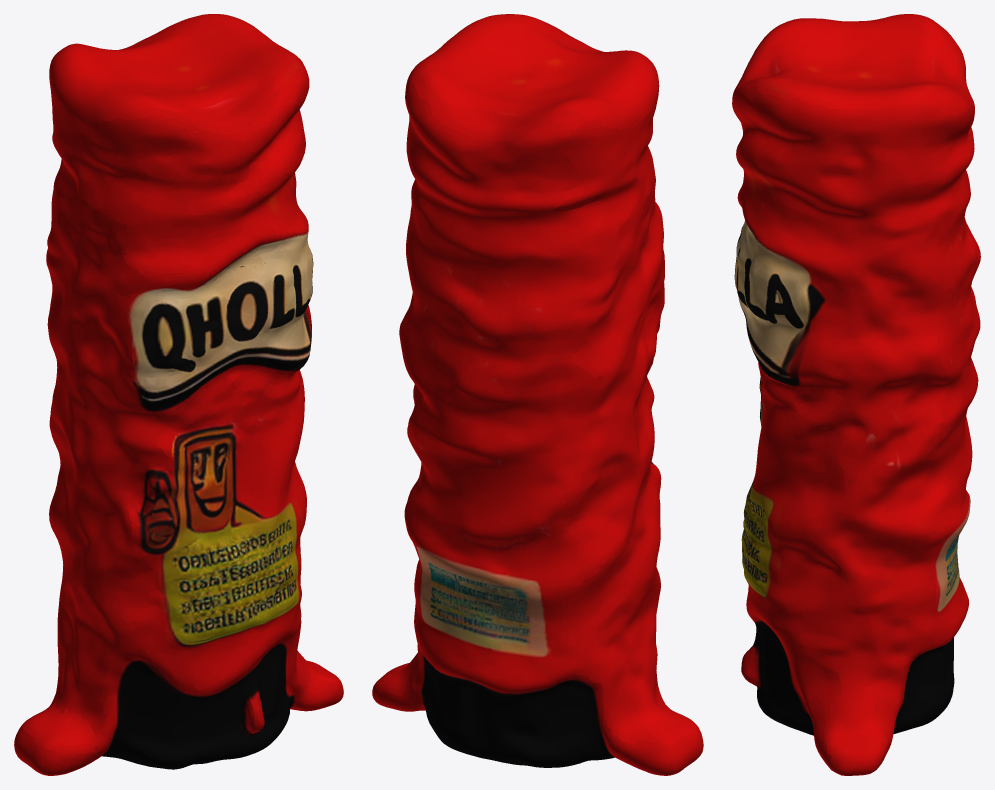
The model's file is qholla.glb.
3 renders of one model, left to right at view 1: azimuth 30°, elevation 25°; view 2: azimuth 150°, elevation 25°; view 3: azimuth 270°, elevation 25°, orthographic. The views are drawn at different scales.
Visible parts, largest first — view 1: tmp3i_8pt4i.ply; view 2: tmp3i_8pt4i.ply; view 3: tmp3i_8pt4i.ply.
Boxes of the visible parts, x1,y1,x2,y2 form: tmp3i_8pt4i.ply: (14,14,343,775); tmp3i_8pt4i.ply: (372,14,703,775); tmp3i_8pt4i.ply: (732,14,980,775).
Bounding box in the file's own units: 0.9491 × 1.96 × 0.6756.
Materials: 1 (1 with a texture image).
